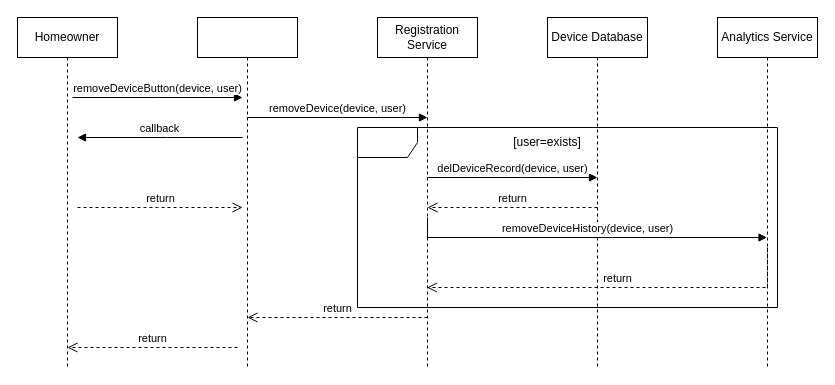
This 835x385 diagram has some shape labels left out. The shapes that lost their labels are listed below. From the top down, each one's box as (x1, y1, x2, y2) in pixels, then its label:
(196, 16, 298, 368): UI
(356, 126, 778, 308): Assert
